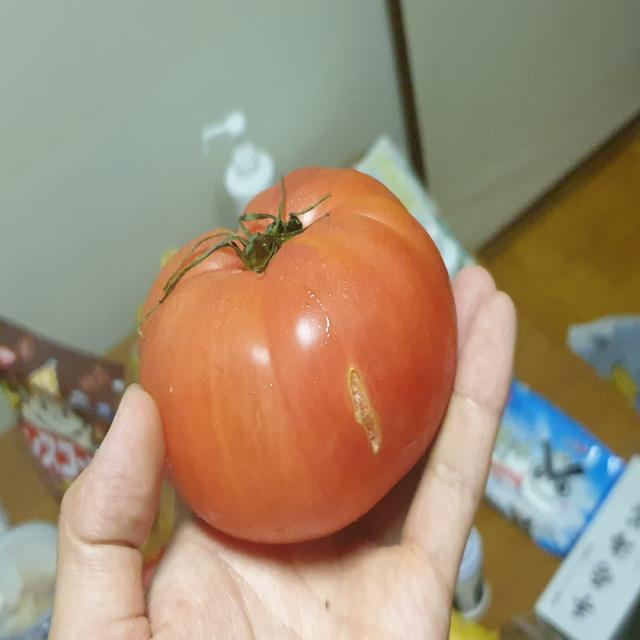tomato: (134, 167, 457, 543)
